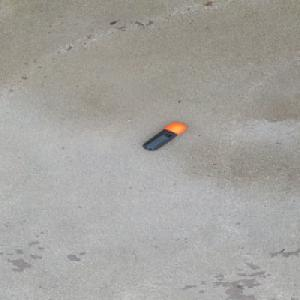PlasticPart: (142, 122, 187, 151)
